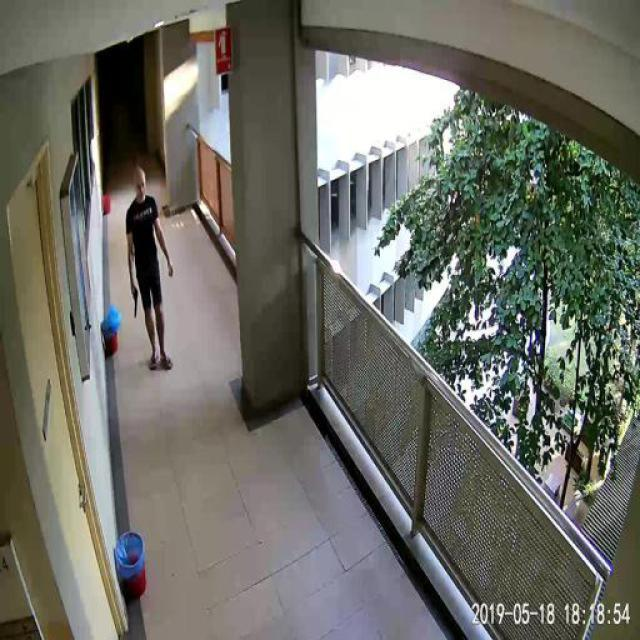weapon: (130, 287, 138, 319)
